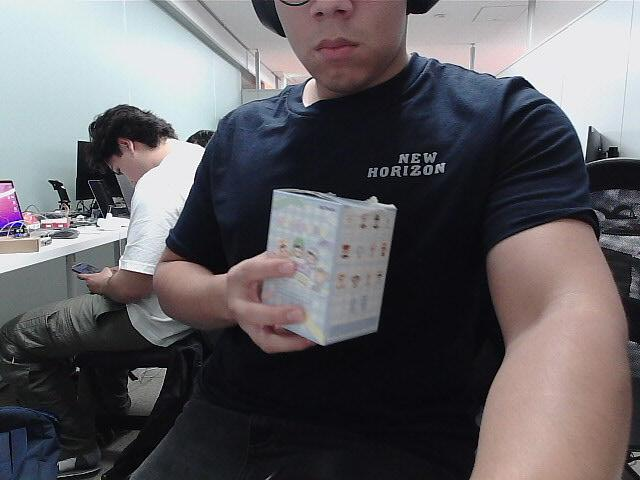Blind_box: (262, 185, 392, 345)
